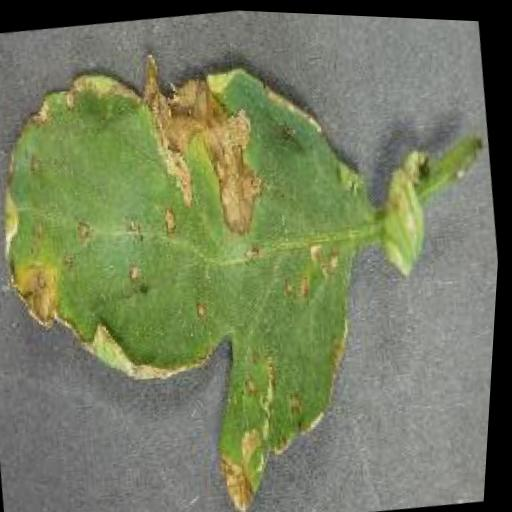Bacterial Spot: (0, 0, 485, 512)
